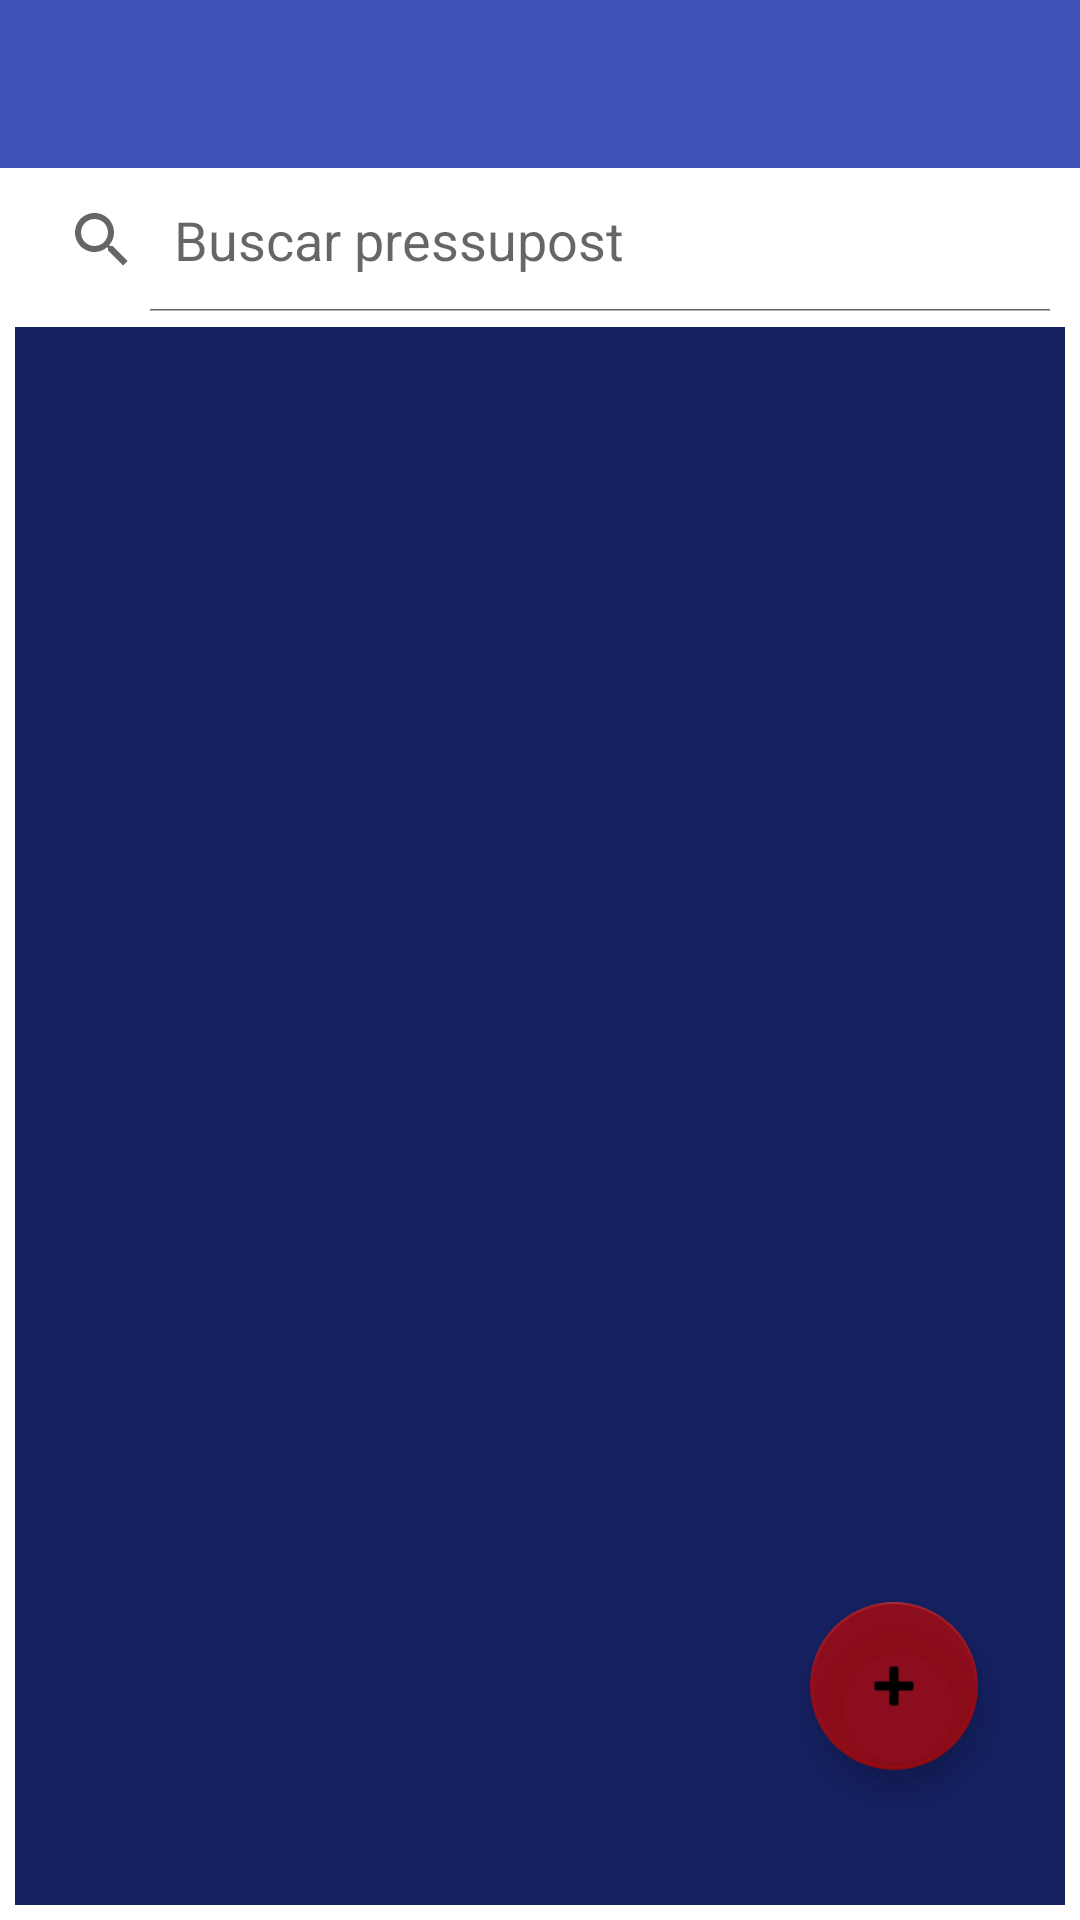

Screen size 1080px×1920px. Icon name, then its box in pixels as (x1, y1, x2, y2):
add: (810, 1602, 978, 1770)
